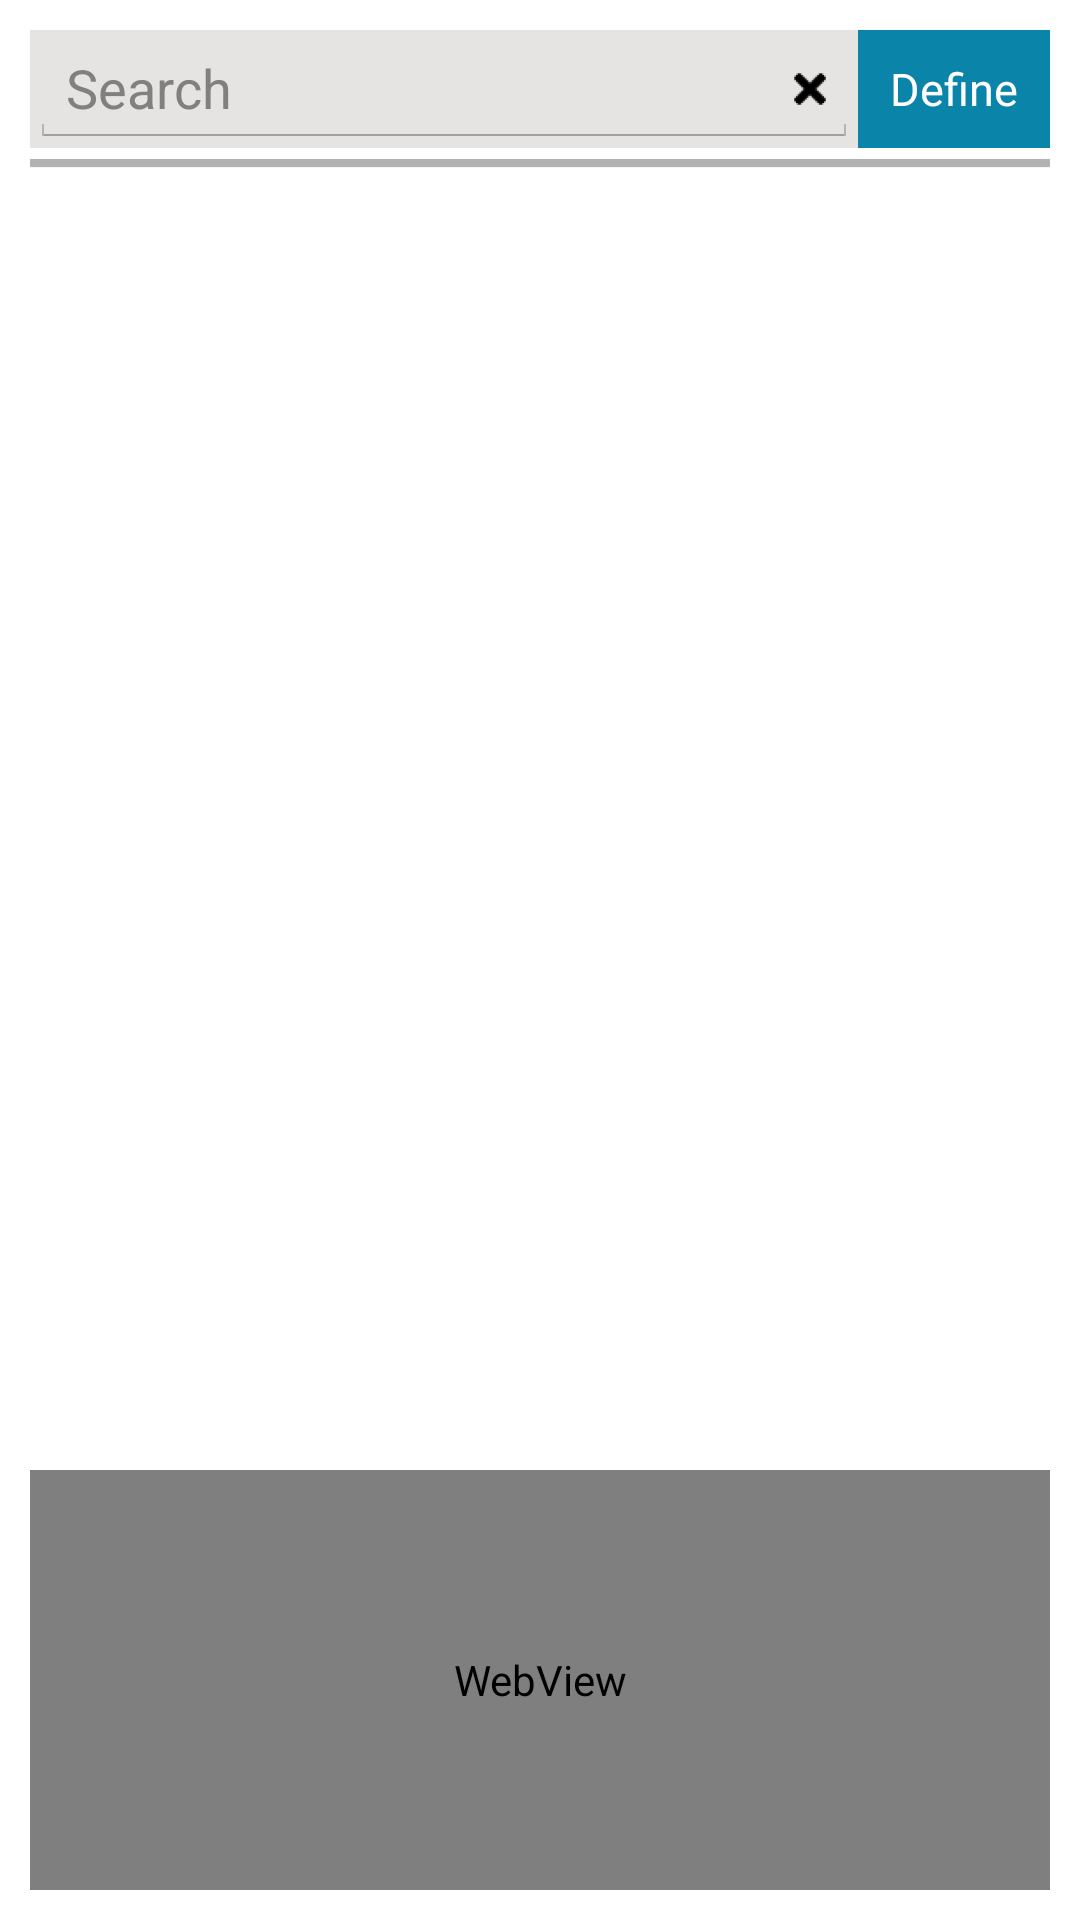

Icons on this 1080×1920 Android screen, each with its box as (x1, y1, x2, y2):
clear: (794, 73, 826, 105)
